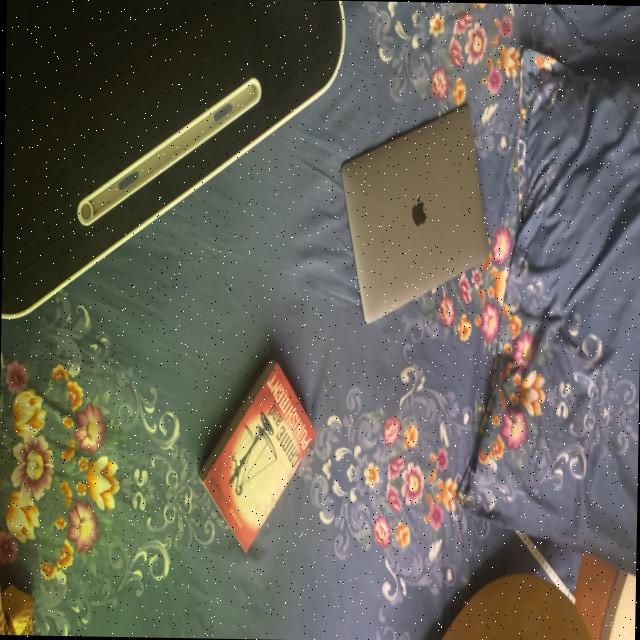book: (180, 344, 326, 584)
laptop: (338, 84, 488, 354)
table: (0, 0, 351, 339)
